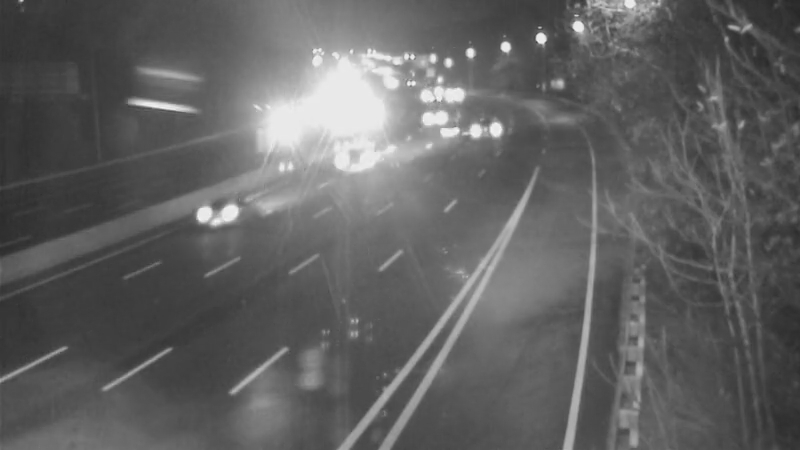vehicle: (332, 112, 412, 192), (175, 176, 255, 256), (414, 90, 464, 140), (456, 106, 506, 156), (258, 96, 308, 146)
